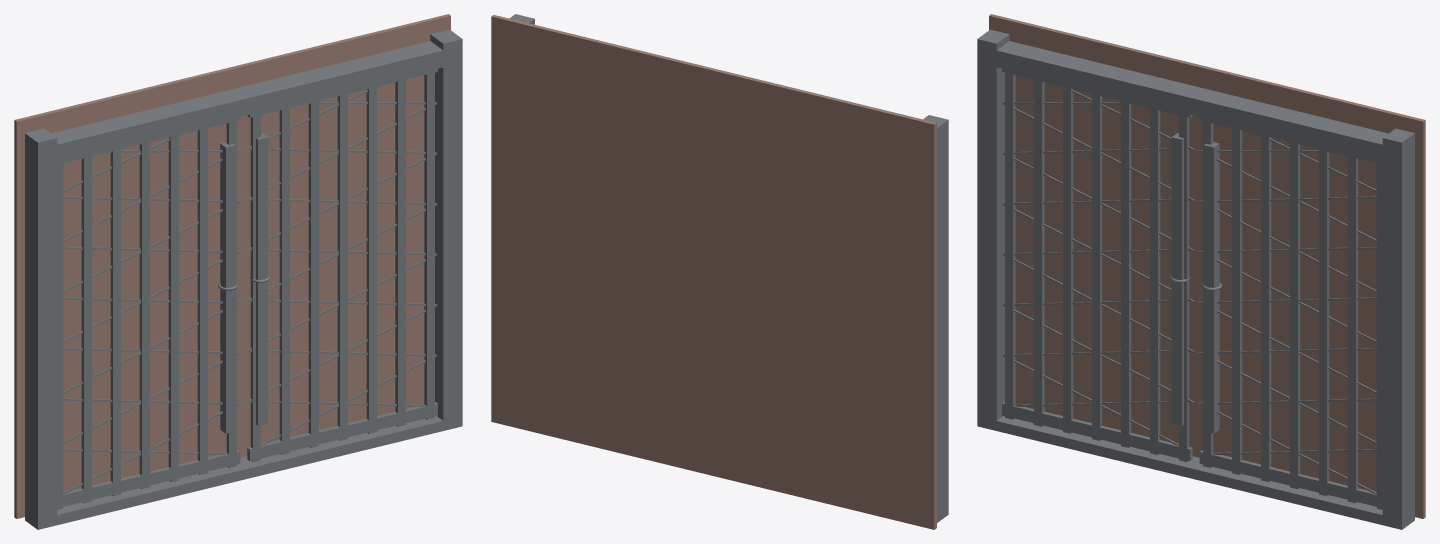
Rendered from security_gate.glb.
3 views of the same model, side by side, from view 1: azimuth 30°, elevation 25°; view 2: azimuth 150°, elevation 25°; view 3: azimuth 330°, elevation 25° (orthographic).
Parts seen in each view (by area): view 1: wall_band, jamb, track, jamb.001, track.001, pull_post, channel.002, channel.008, channel.013, channel.005, pull_post.001, channel.010 (+17 smaller); view 2: wall_band, jamb; view 3: wall_band, jamb.001, track, jamb, track.001, pull_post.001, channel.009, channel.001, channel.005, pull_post, channel.006, channel.002 (+17 smaller).
Part boxes in pixels (x1=…): wall_band: x1=14, y1=14, x2=450, y2=518; jamb: x1=25, y1=128, x2=57, y2=529; track: x1=51, y1=41, x2=443, y2=162; jamb.001: x1=430, y1=29, x2=462, y2=429; track.001: x1=57, y1=416, x2=448, y2=524; pull_post: x1=220, y1=142, x2=236, y2=433; channel.002: x1=81, y1=153, x2=92, y2=503; channel.008: x1=424, y1=69, x2=434, y2=419; channel.013: x1=279, y1=105, x2=289, y2=454; channel.005: x1=168, y1=132, x2=178, y2=481; pull_post.001: x1=256, y1=133, x2=268, y2=425; channel.010: x1=366, y1=83, x2=376, y2=433; wall_band: x1=491, y1=15, x2=936, y2=529; jamb: x1=923, y1=115, x2=948, y2=522; wall_band: x1=989, y1=14, x2=1425, y2=518; jamb.001: x1=1382, y1=128, x2=1414, y2=529; track: x1=996, y1=41, x2=1388, y2=161; jamb: x1=977, y1=29, x2=1009, y2=430; track.001: x1=991, y1=416, x2=1387, y2=524; pull_post.001: x1=1203, y1=142, x2=1219, y2=433; channel.009: x1=1347, y1=153, x2=1358, y2=503; channel.001: x1=1005, y1=69, x2=1015, y2=419; channel.005: x1=1121, y1=98, x2=1131, y2=447; pull_post: x1=1171, y1=133, x2=1183, y2=425; channel.006: x1=1150, y1=105, x2=1160, y2=454; channel.002: x1=1034, y1=76, x2=1044, y2=426.
Bounding box in the file's own units: 2.7 × 2.36 × 0.203.
